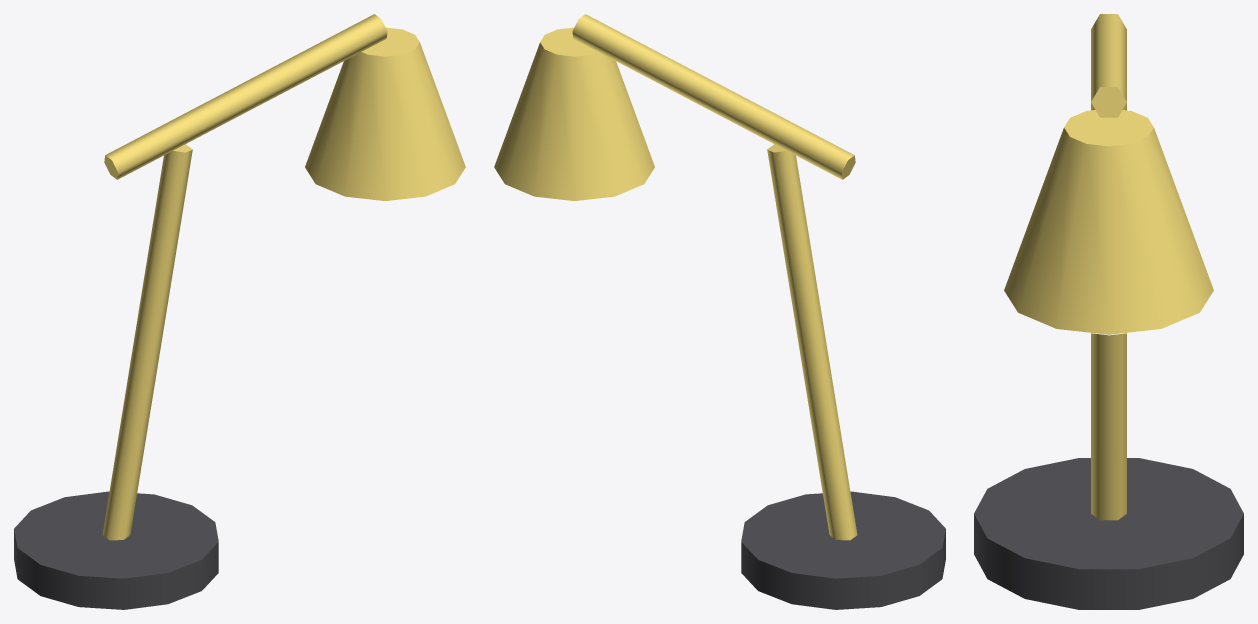
3 renders of one model, left to right at view 1: azimuth 30°, elevation 25°; view 2: azimuth 150°, elevation 25°; view 3: azimuth 270°, elevation 25°, orthographic. The views are drawn at different scales.
Parts seen in each view (by area): view 1: Decor_desk_lamp; view 2: Decor_desk_lamp; view 3: Decor_desk_lamp.
Part boxes in pixels (x1,y1,x2,y2): Decor_desk_lamp: (14, 14, 465, 609); Decor_desk_lamp: (494, 14, 945, 609); Decor_desk_lamp: (974, 14, 1243, 609).
Bounding box in the file's own units: 0.4277 × 0.4663 × 0.18.
